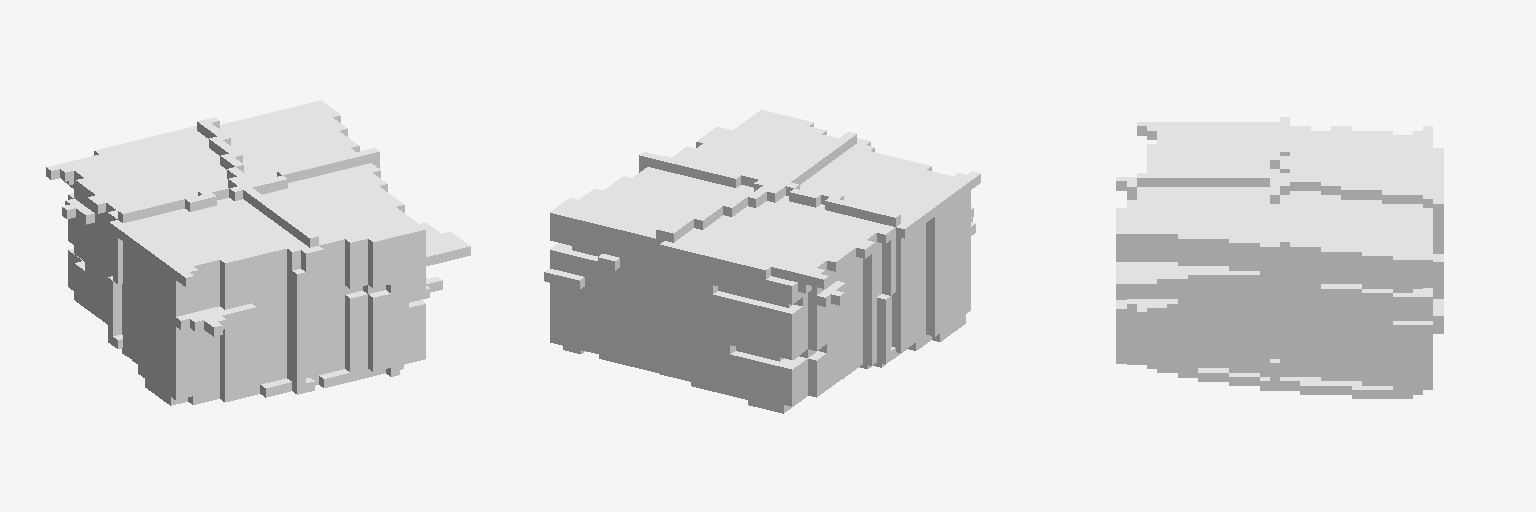
File: NewsPaper.obj
3 views of the same model, side by side, from view 1: azimuth 30°, elevation 25°; view 2: azimuth 150°, elevation 25°; view 3: azimuth 270°, elevation 25° (orthographic).
Visible parts, largest first — view 1: object 1; view 2: object 1; view 3: object 1.
Boxes of the visible parts, <box> form: object 1: <box>46,100,470,405</box>; object 1: <box>544,110,980,413</box>; object 1: <box>1116,117,1443,398</box>.
Size of the model in its own units: 3.2 by 1.6 by 3.2.